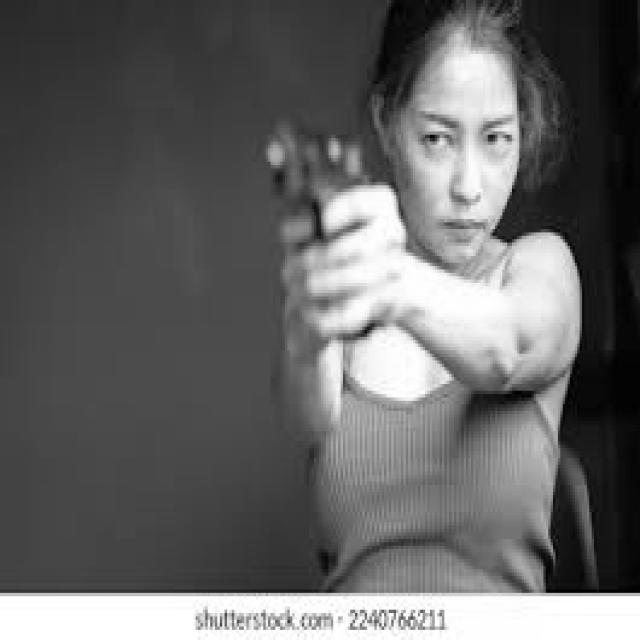handgun: (261, 122, 381, 336)
